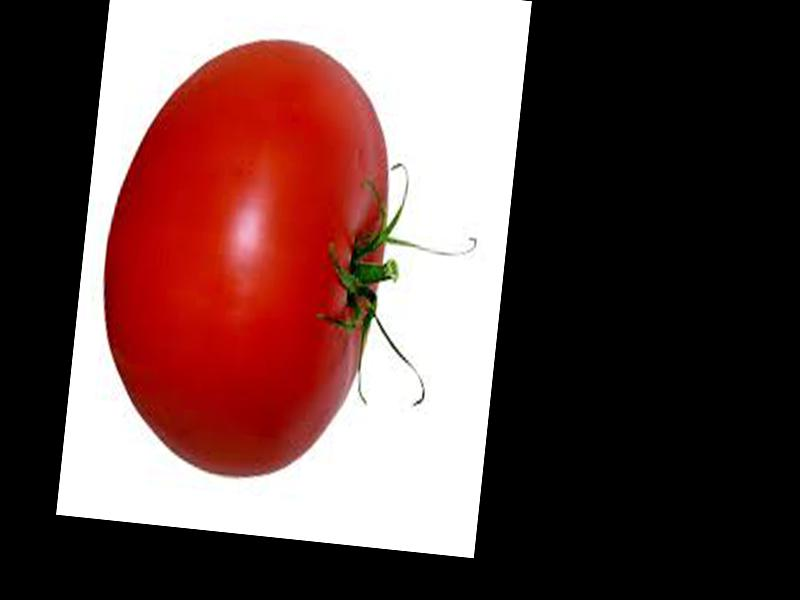Tomato: (86, 21, 406, 489)
